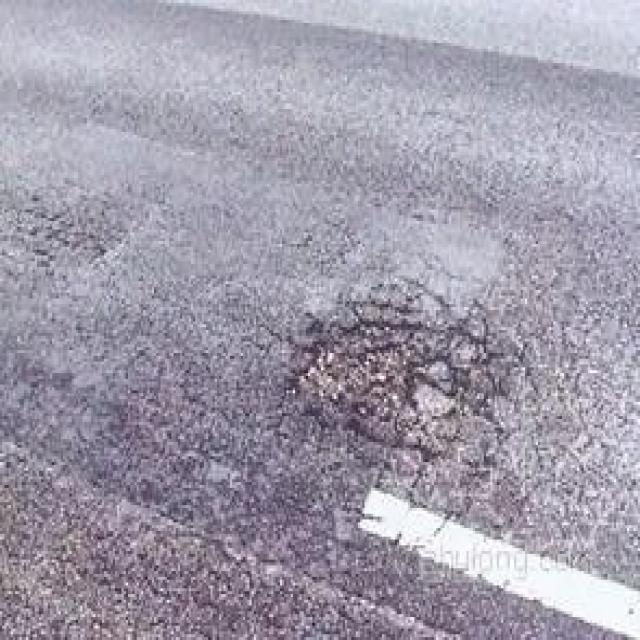Pothole: (280, 298, 512, 474)
